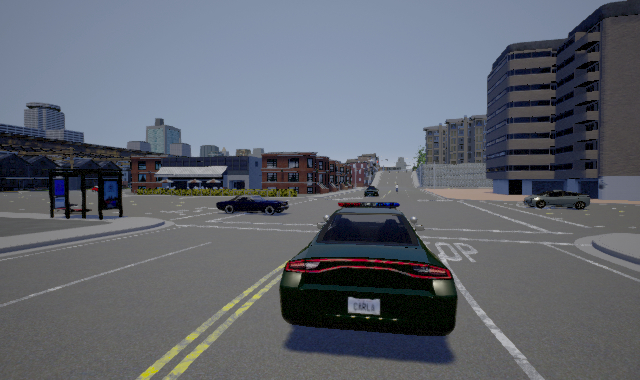vehicle: (279, 202, 458, 336), (216, 195, 289, 216), (523, 190, 590, 210), (362, 184, 378, 197)
